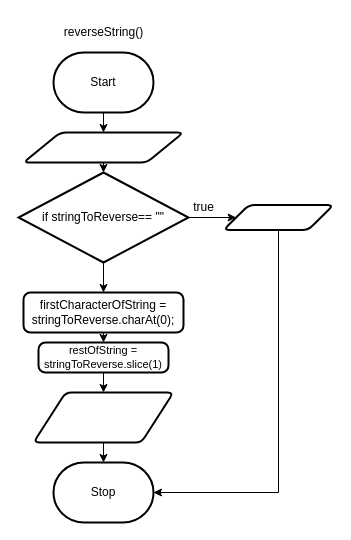
Some shapes in this 351 by 540 pixel diagram are drawn without their labels. Here are the shapes that lost their labels. From the top down, the centre of each, then its label:
(x=103, y=147): get stringToReverse
(x=278, y=217): return ""
(x=103, y=417): return reverseString(restOfString) + firstCharacterOfString
